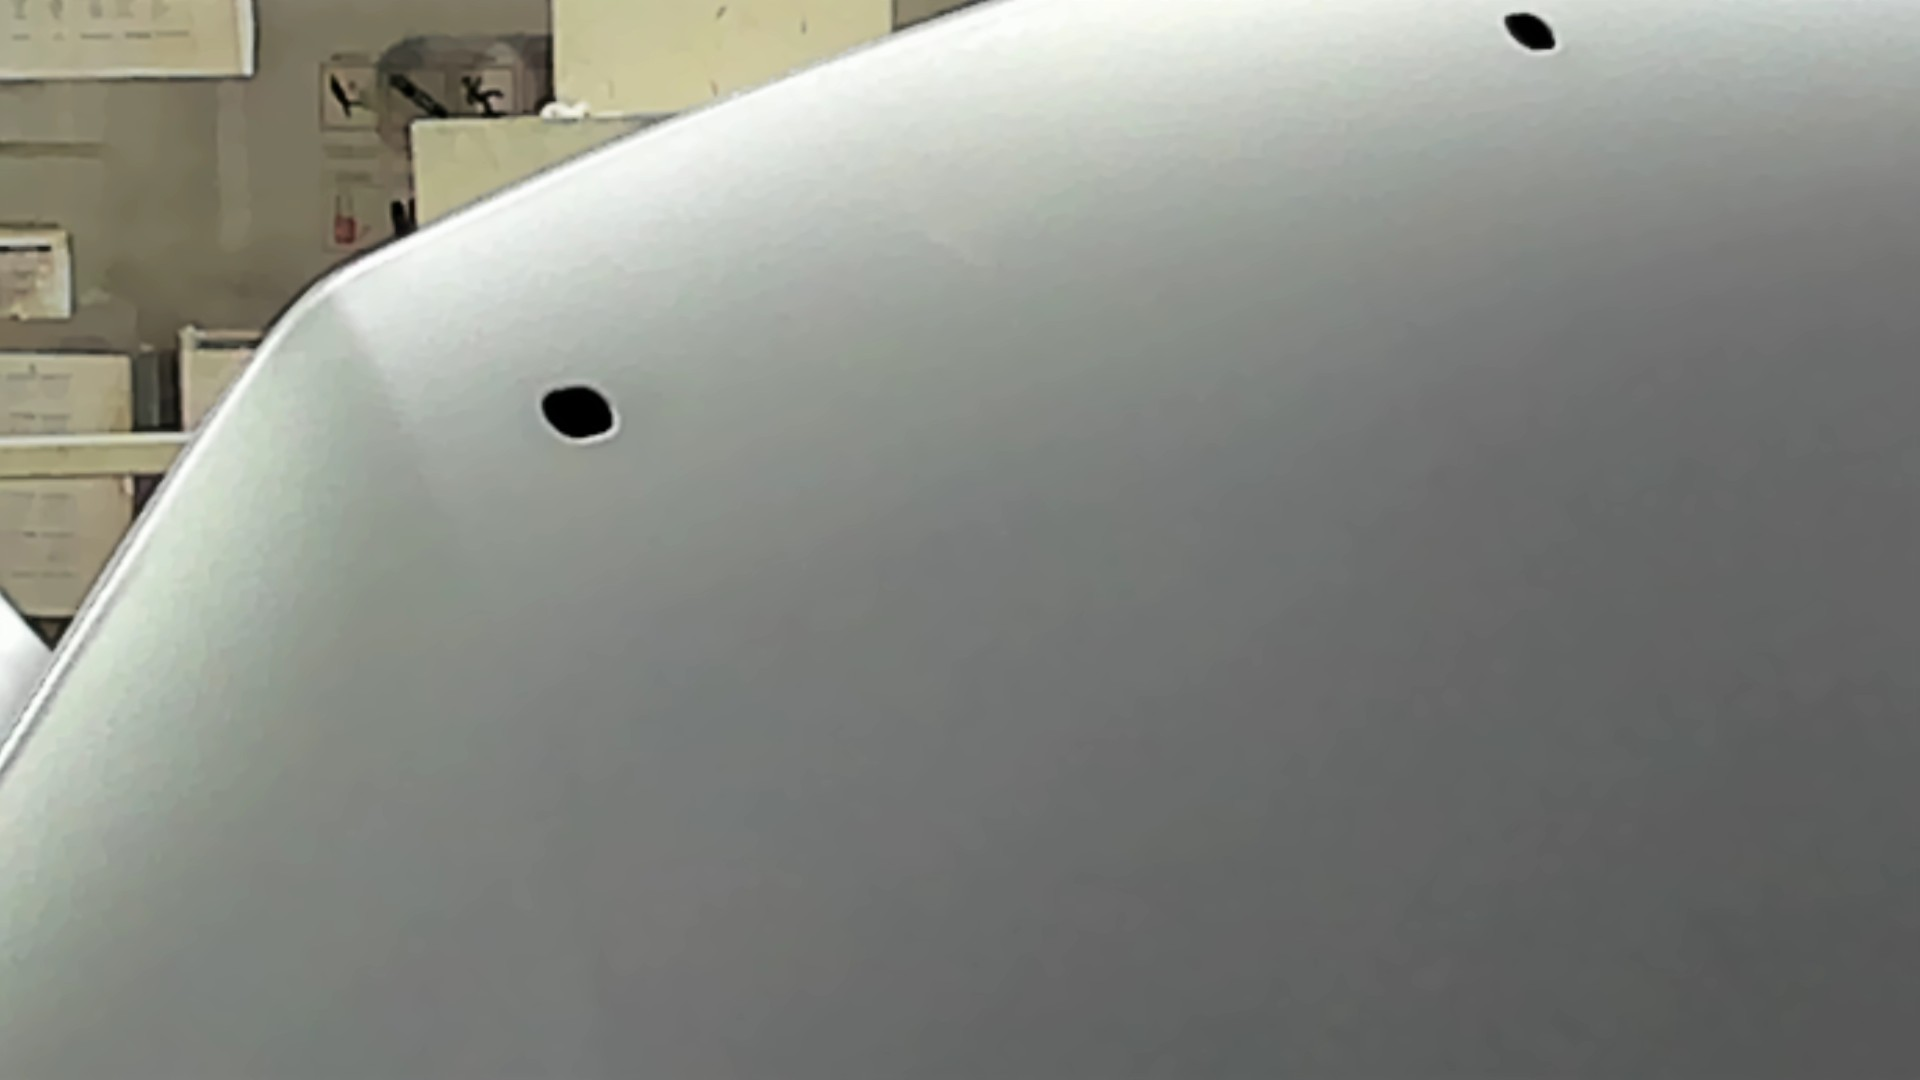amorfo: (531, 378, 621, 448), (1495, 7, 1561, 63)
capo: (742, 138, 1920, 1080)
